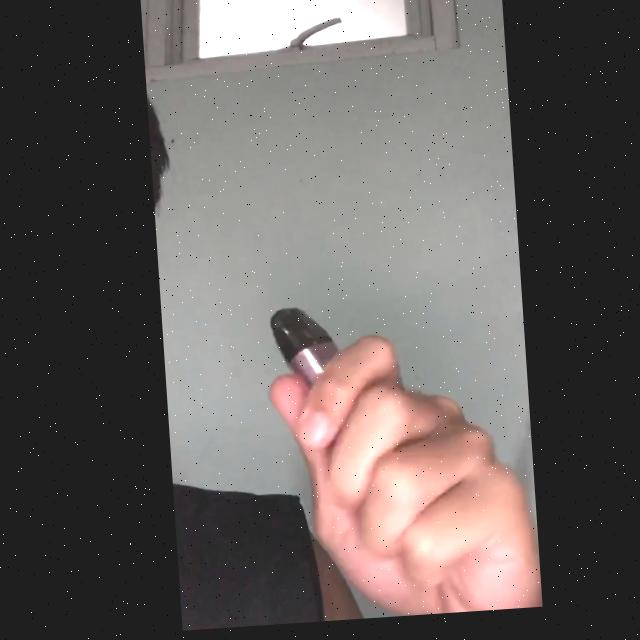vape: (265, 307, 335, 388)
